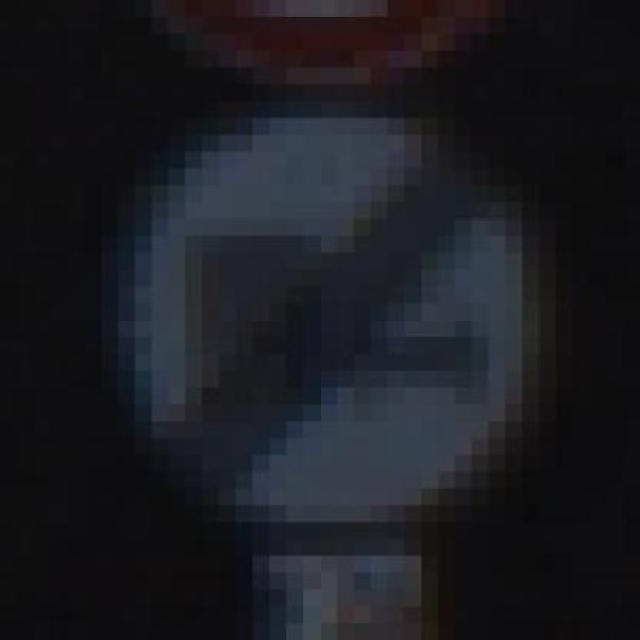Overtaking by trucks is prohibited: (17, 84, 623, 522)
